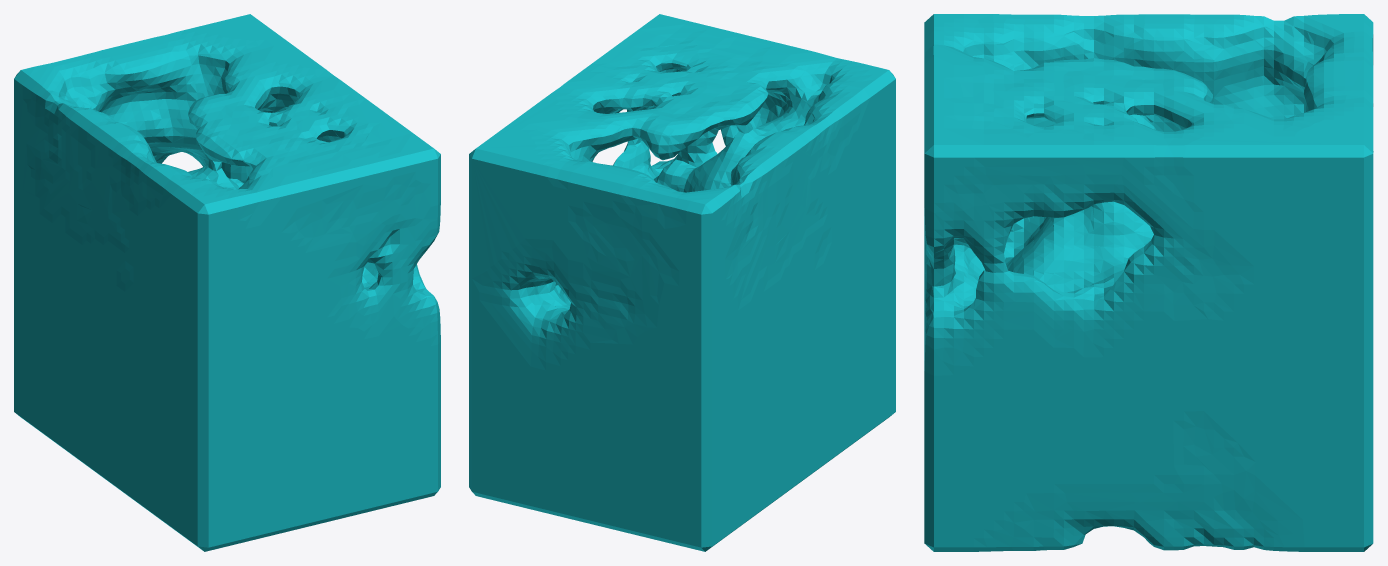
The picture shows the model from 3 angles, left to right: view 1: azimuth 30°, elevation 25°; view 2: azimuth 150°, elevation 25°; view 3: azimuth 270°, elevation 25°; orthographic projection. The views are drawn at different scales.
Parts seen in each view (by area): view 1: Liquid_Domain; view 2: Liquid_Domain; view 3: Liquid_Domain.
Boxes of the visible parts, x1,y1,x2,y2 form: Liquid_Domain: (14, 14, 440, 551); Liquid_Domain: (469, 14, 895, 551); Liquid_Domain: (924, 14, 1373, 551).
Size of the model in its own units: 79.1 by 108 by 108.
